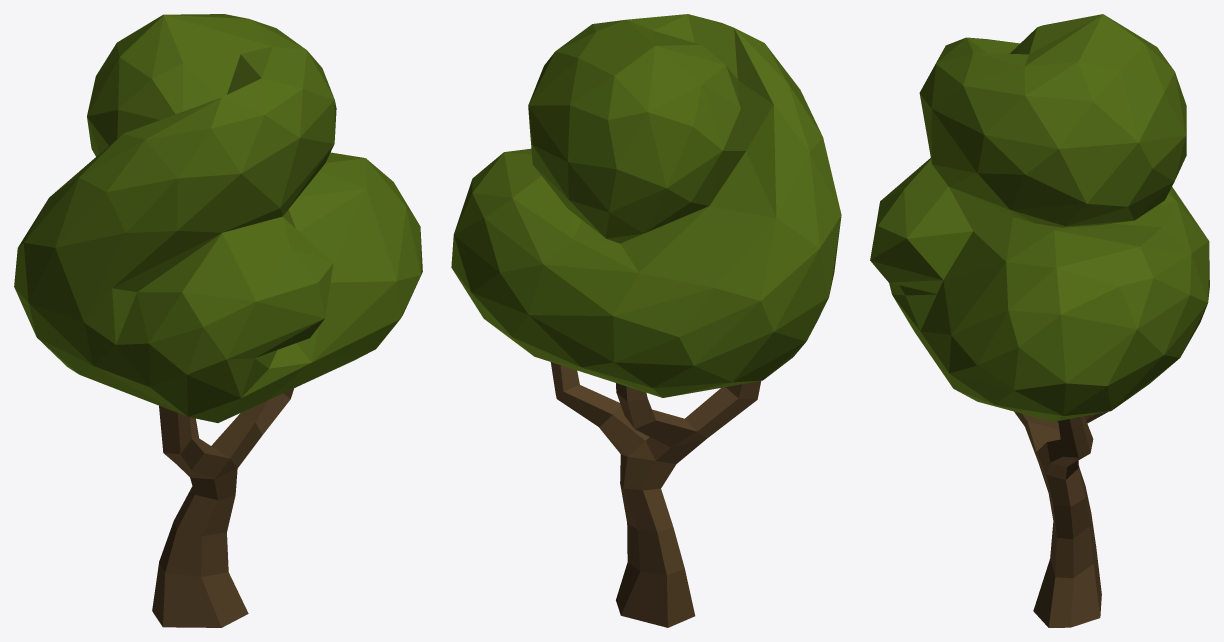
The model's file is TreesAndBushes_080.fbx.
3 renders of one model, left to right at view 1: azimuth 30°, elevation 25°; view 2: azimuth 150°, elevation 25°; view 3: azimuth 270°, elevation 25°, orthographic. The views are drawn at different scales.
Visible parts, largest first — view 1: TreesAndBushes_080; view 2: TreesAndBushes_080; view 3: TreesAndBushes_080.
Boxes of the visible parts, <box> form: TreesAndBushes_080: <box>14,14,422,627</box>; TreesAndBushes_080: <box>451,14,841,627</box>; TreesAndBushes_080: <box>870,14,1209,627</box>.
Size of the model in its own units: 104 by 156 by 82.12.
